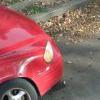Car: (2, 3, 67, 100)
